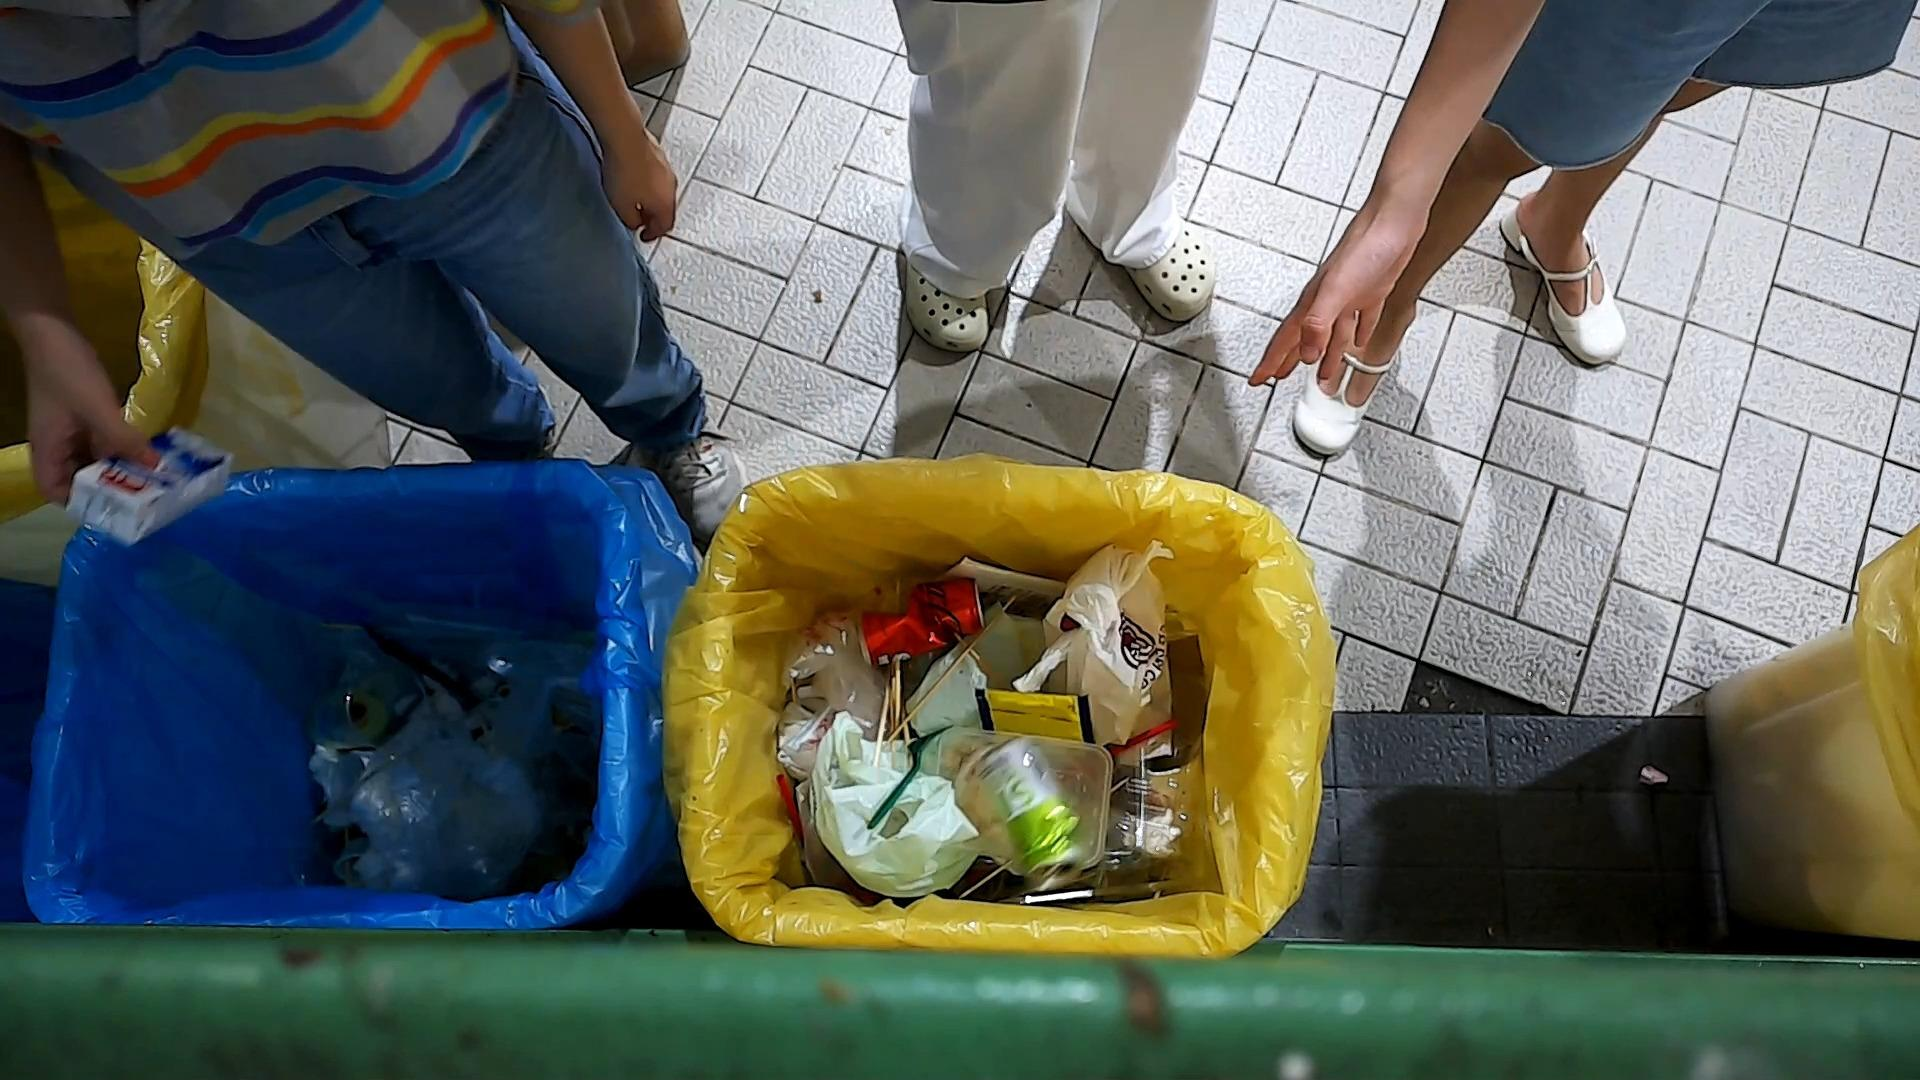can: (964, 729, 1092, 894), (853, 572, 989, 673)
filled plastic bag: (1011, 538, 1182, 760), (802, 707, 989, 903)
food container: (931, 717, 1116, 878)
milk carton: (61, 421, 237, 550)
plastic bag: (344, 654, 564, 906), (775, 597, 885, 748)
plastic cup: (301, 645, 433, 756)
plastic cutlery: (858, 719, 956, 831)
snack packaging: (973, 687, 1097, 745)
sticks: (885, 593, 1019, 744), (305, 753, 398, 831)
straw: (1108, 716, 1185, 758), (773, 773, 807, 855)
